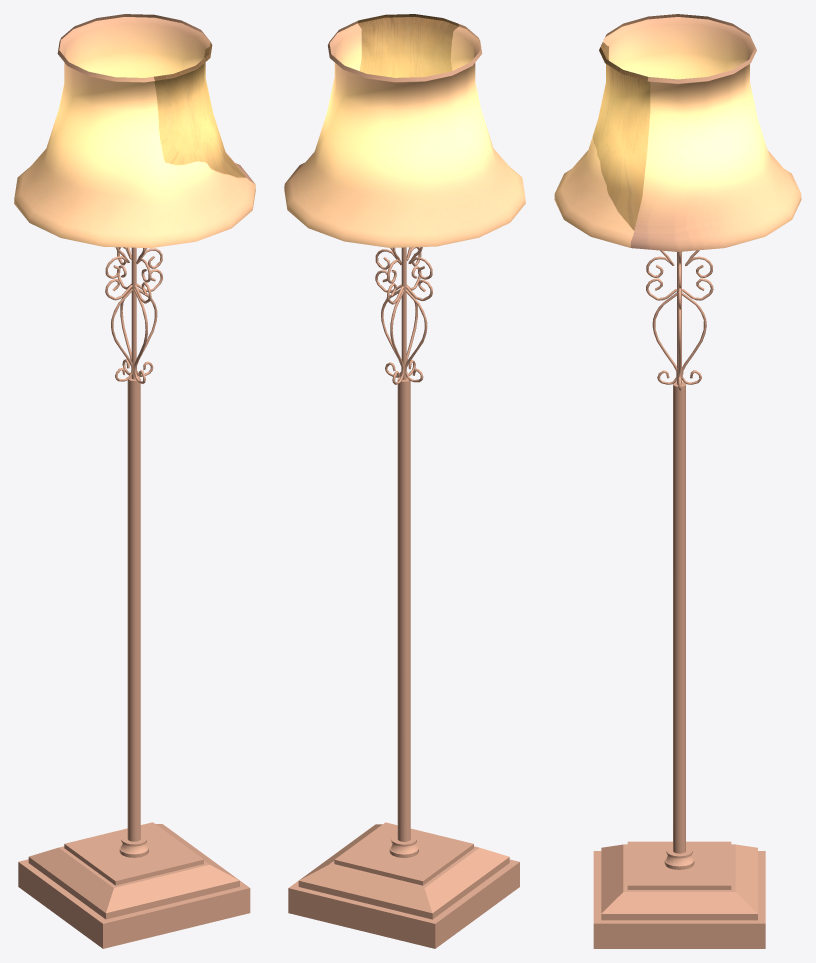
3 renders of one model, left to right at view 1: azimuth 30°, elevation 25°; view 2: azimuth 150°, elevation 25°; view 3: azimuth 270°, elevation 25°, orthographic.
Parts seen in each view (by area): view 1: floor_lamp; view 2: floor_lamp; view 3: floor_lamp.
Boxes of the visible parts, bbox=[...] form: floor_lamp: bbox=[14, 14, 255, 948]; floor_lamp: bbox=[284, 14, 525, 948]; floor_lamp: bbox=[554, 14, 801, 948].
Bounding box in the file's own units: 0.5172 × 2 × 0.5172.
